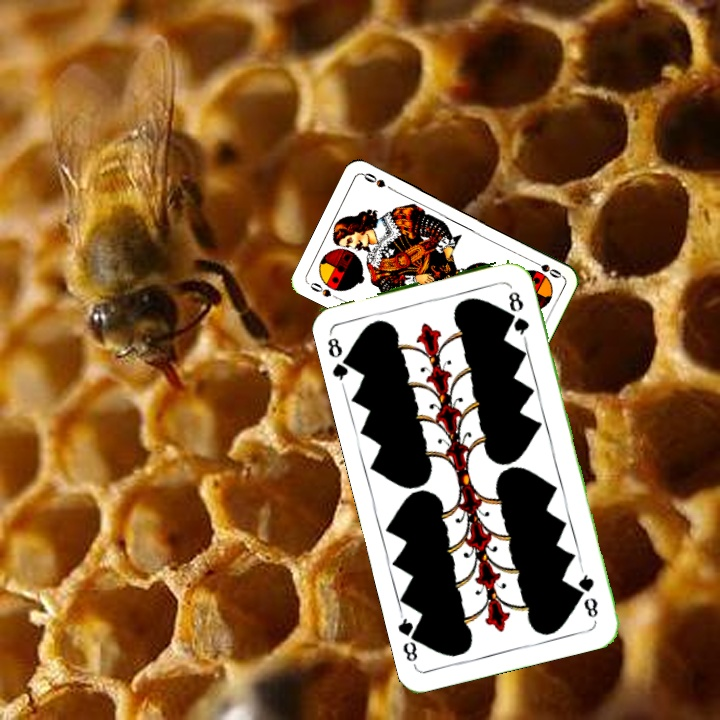G8: (323, 333, 357, 387), (574, 565, 601, 621)
SO: (526, 256, 564, 281), (305, 278, 343, 303)
